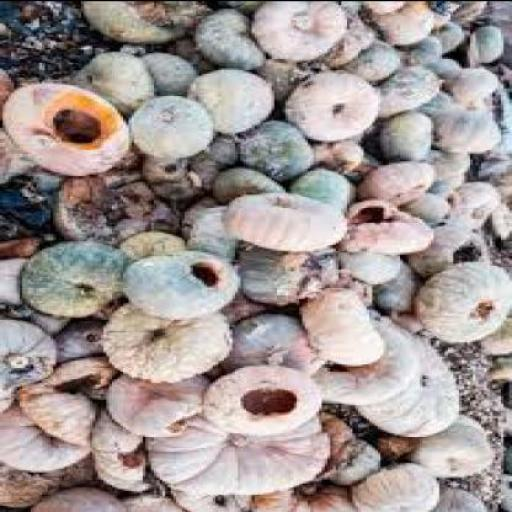biodegradable: (2, 1, 511, 511), (146, 412, 333, 492), (3, 76, 131, 175), (358, 331, 462, 432), (56, 166, 184, 244), (106, 301, 234, 378), (319, 309, 422, 402), (22, 351, 123, 445), (123, 246, 244, 318), (210, 361, 324, 434), (25, 238, 131, 315), (227, 188, 353, 249), (420, 258, 510, 338), (2, 395, 98, 467), (2, 1, 98, 73), (306, 285, 392, 361), (106, 372, 210, 434), (288, 69, 384, 135), (229, 311, 327, 372), (338, 195, 440, 252), (243, 246, 339, 304), (254, 1, 350, 58), (76, 46, 159, 110), (132, 93, 215, 157), (196, 66, 279, 130), (414, 414, 498, 475), (240, 117, 320, 181), (196, 3, 274, 67), (409, 220, 492, 278), (86, 2, 211, 40), (2, 314, 62, 386), (377, 61, 454, 117), (360, 460, 442, 510), (311, 4, 377, 65), (366, 156, 443, 203), (434, 102, 506, 152), (478, 75, 510, 177), (185, 201, 241, 259), (448, 176, 506, 226), (374, 1, 441, 43), (215, 162, 291, 199), (171, 477, 255, 510), (143, 50, 204, 95), (378, 112, 437, 158), (302, 164, 361, 209), (42, 447, 103, 490), (190, 132, 238, 186), (31, 484, 129, 510), (344, 35, 403, 78), (330, 437, 386, 482), (342, 245, 403, 285), (115, 227, 188, 260), (381, 260, 428, 310), (319, 410, 358, 469), (62, 316, 112, 362), (98, 447, 151, 490), (126, 477, 193, 510), (263, 56, 313, 100), (3, 466, 59, 504), (448, 63, 501, 103), (2, 127, 40, 181), (302, 477, 364, 510), (2, 253, 37, 311), (406, 188, 453, 230), (230, 294, 291, 326), (313, 138, 370, 171), (96, 407, 142, 447), (177, 33, 221, 73), (252, 482, 310, 510), (486, 1, 511, 63), (470, 20, 506, 62), (26, 302, 72, 334), (440, 482, 492, 510), (481, 310, 511, 355), (14, 170, 59, 199), (386, 426, 423, 458), (436, 149, 476, 178), (434, 19, 473, 46), (346, 272, 381, 302), (405, 36, 445, 62), (154, 177, 202, 197), (3, 235, 50, 255), (430, 56, 465, 82), (149, 159, 196, 178), (2, 184, 37, 209), (453, 1, 493, 22), (436, 171, 474, 193), (398, 304, 428, 330), (354, 147, 380, 177), (19, 203, 56, 223), (3, 380, 25, 408), (436, 1, 465, 22), (361, 1, 411, 13), (2, 67, 20, 99), (497, 471, 511, 511), (492, 353, 511, 379), (2, 213, 20, 240), (129, 37, 154, 54), (468, 98, 492, 110), (508, 412, 511, 473)
